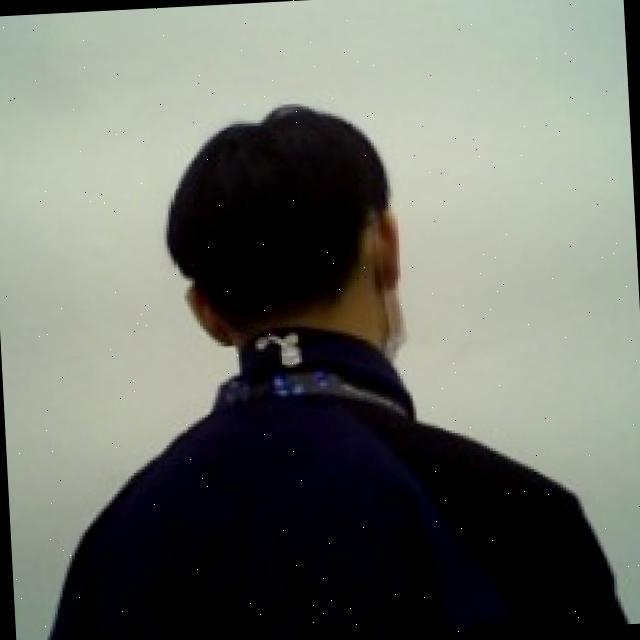no_gloves: (153, 94, 411, 343)
